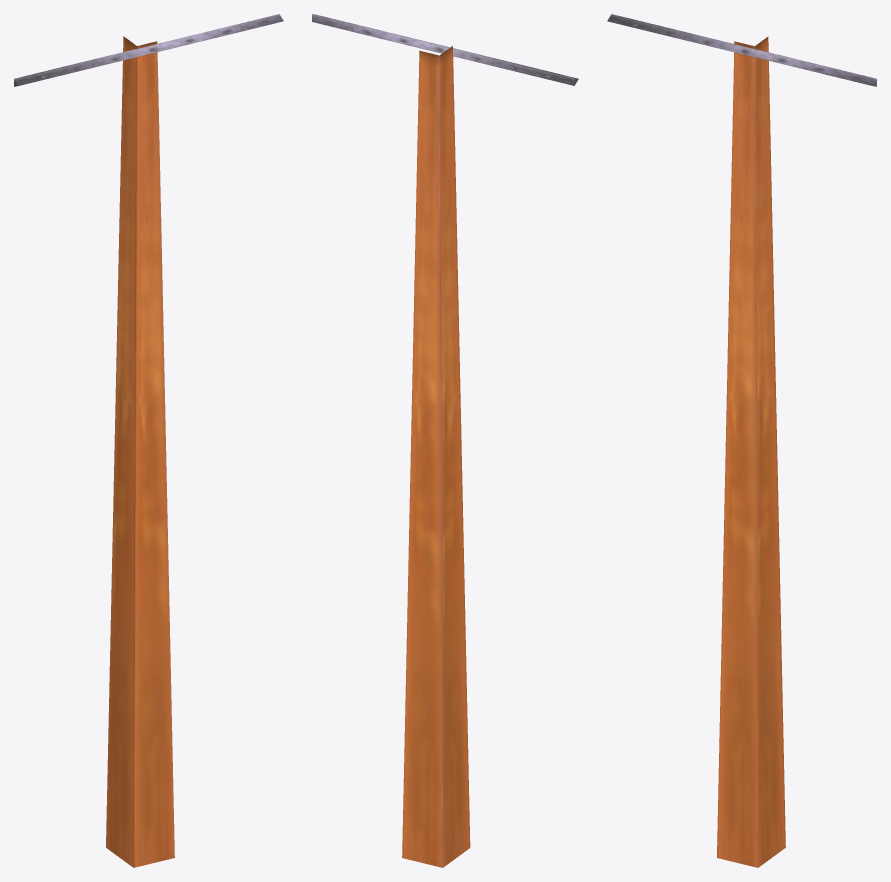
File: ELEC_POLE.glb
3 renders of one model, left to right at view 1: azimuth 30°, elevation 25°; view 2: azimuth 150°, elevation 25°; view 3: azimuth 330°, elevation 25°, orthographic.
Visible parts, largest first — view 1: ELEC_POLE; view 2: ELEC_POLE; view 3: ELEC_POLE.
Boxes of the visible parts, left/top/right/bottom form: ELEC_POLE: left=14, top=14, right=283, bottom=867; ELEC_POLE: left=312, top=14, right=578, bottom=867; ELEC_POLE: left=607, top=14, right=876, bottom=867.
Size of the model in its own units: 280 by 821 by 50.76.
Materials: 1 (1 with a texture image).
